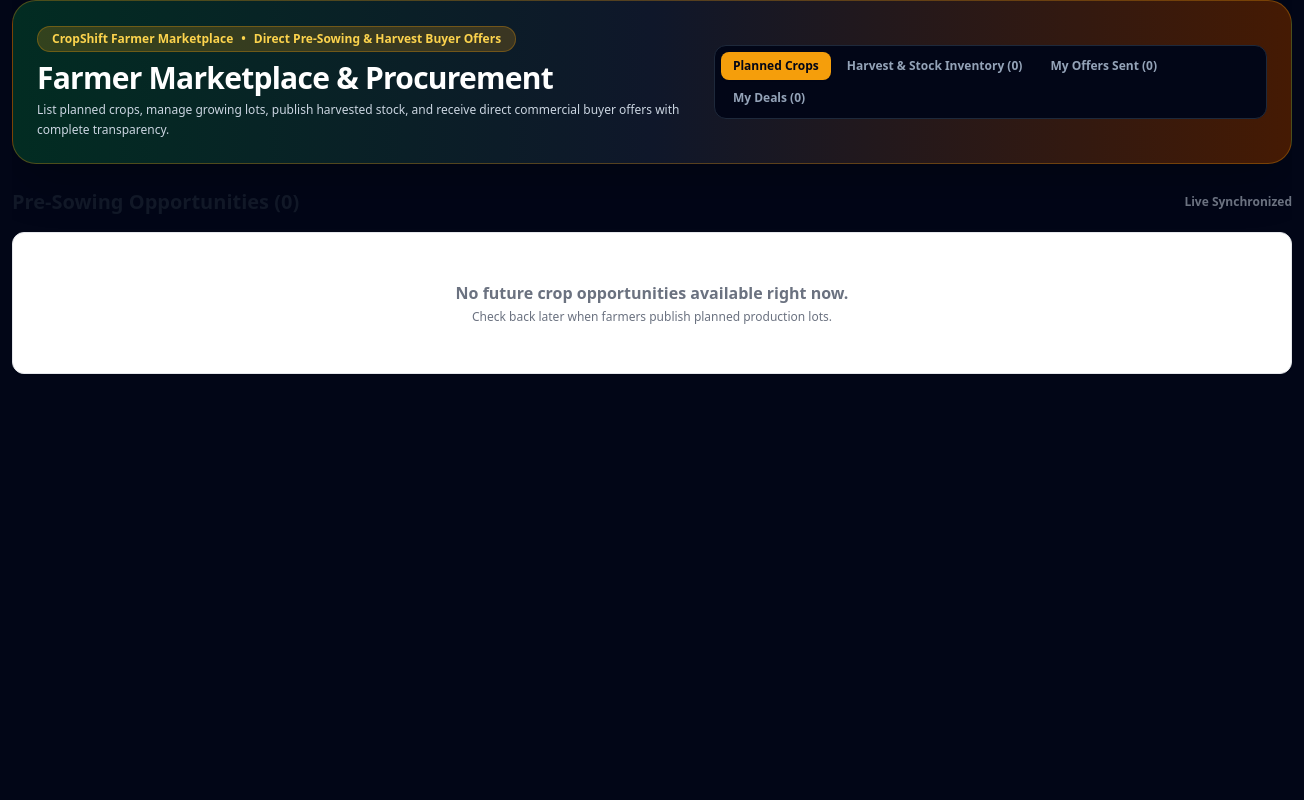
Scenario: Phase 7C StockBid UI Integration › 1. Buyer sees Available Harvested Stock tab and Submit Stock Offer button
Click the button "Harvest & Stock Inventory (0)": (935, 66) [835,52,1034,80]
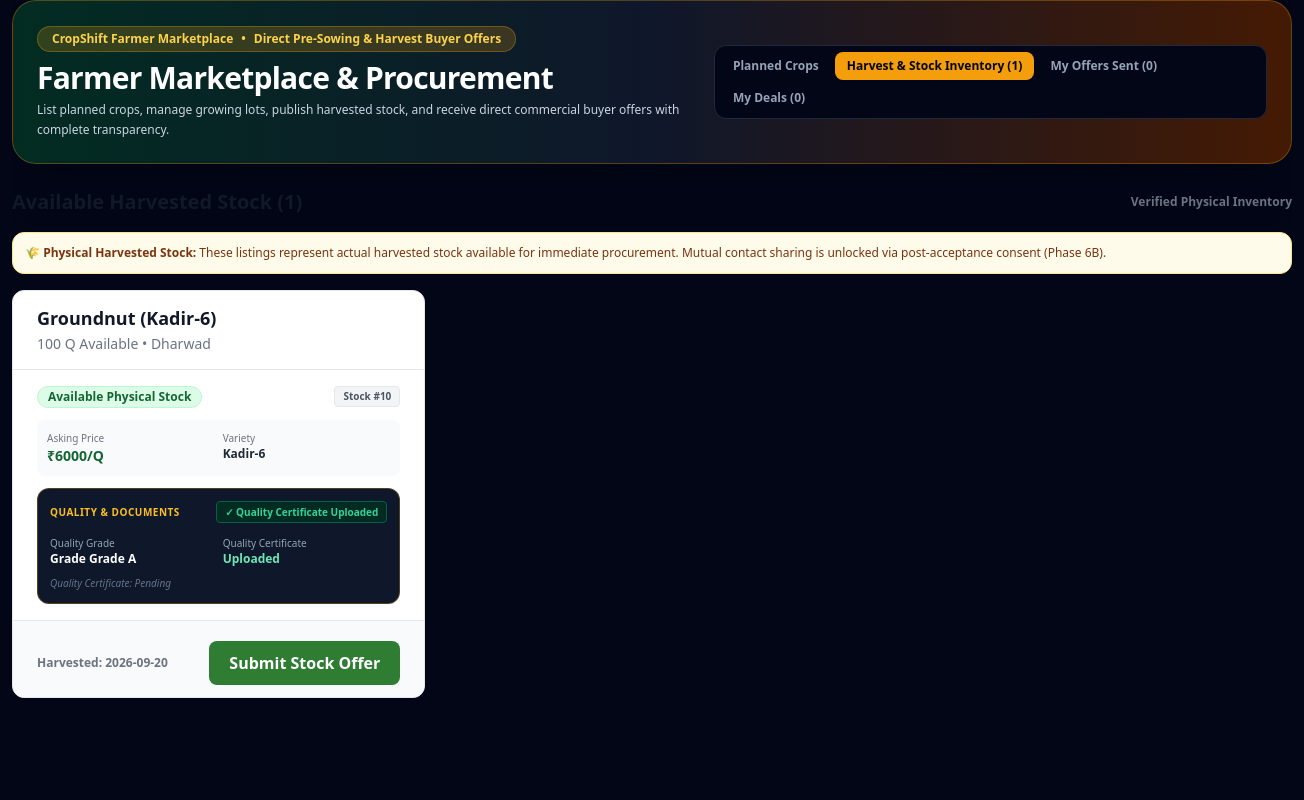
Expected: the button "Submit Stock Offer" is shown, [209,641,400,685]
